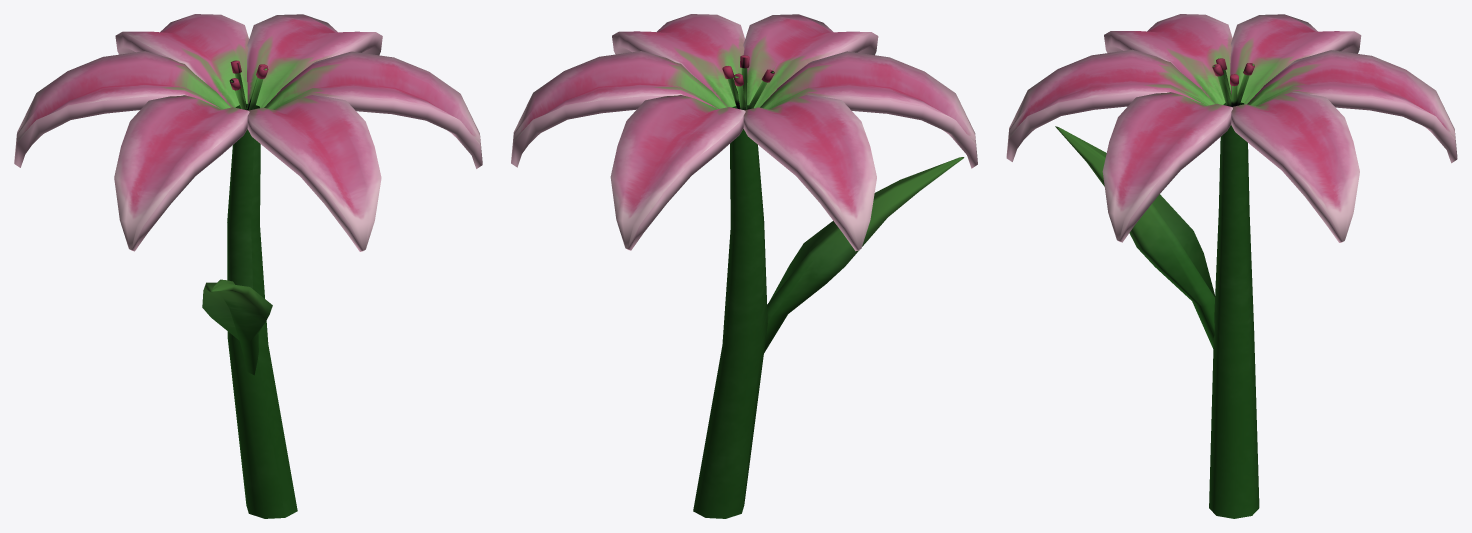
The model's file is LirioBaixo.fbx.
The picture shows the model from 3 angles, left to right: view 1: azimuth 30°, elevation 25°; view 2: azimuth 150°, elevation 25°; view 3: azimuth 270°, elevation 25°; orthographic projection. The views are drawn at different scales.
Parts seen in each view (by area): view 1: Lirio.001; view 2: Lirio.001; view 3: Lirio.001.
Part boxes in pixels (x1,y1,x2,y2): Lirio.001: [14, 14, 482, 518]; Lirio.001: [511, 14, 977, 518]; Lirio.001: [1006, 14, 1457, 518].
Size of the model in its own units: 136 by 163 by 153.
